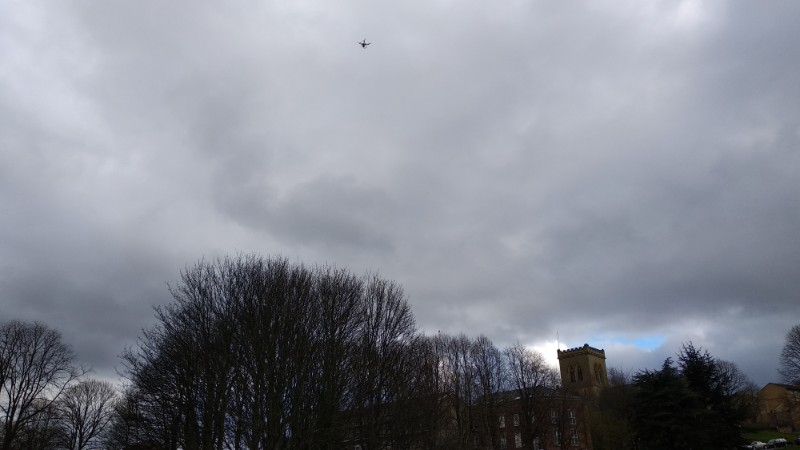drone: (359, 39, 372, 49)
